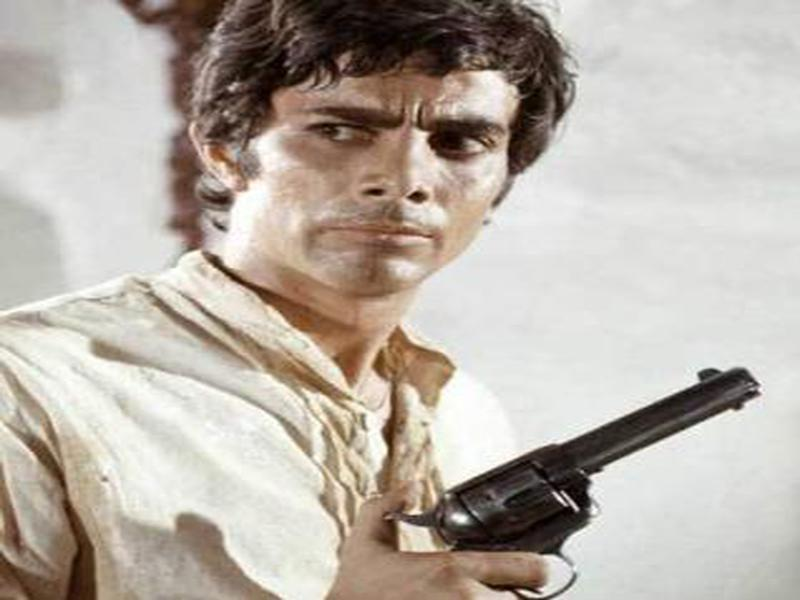Revolver: (385, 349, 776, 596)
